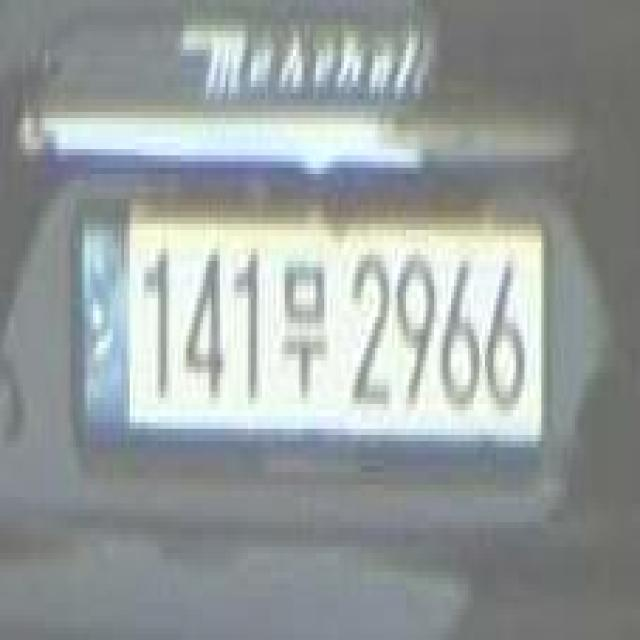illegal_plate: (67, 180, 553, 490)
